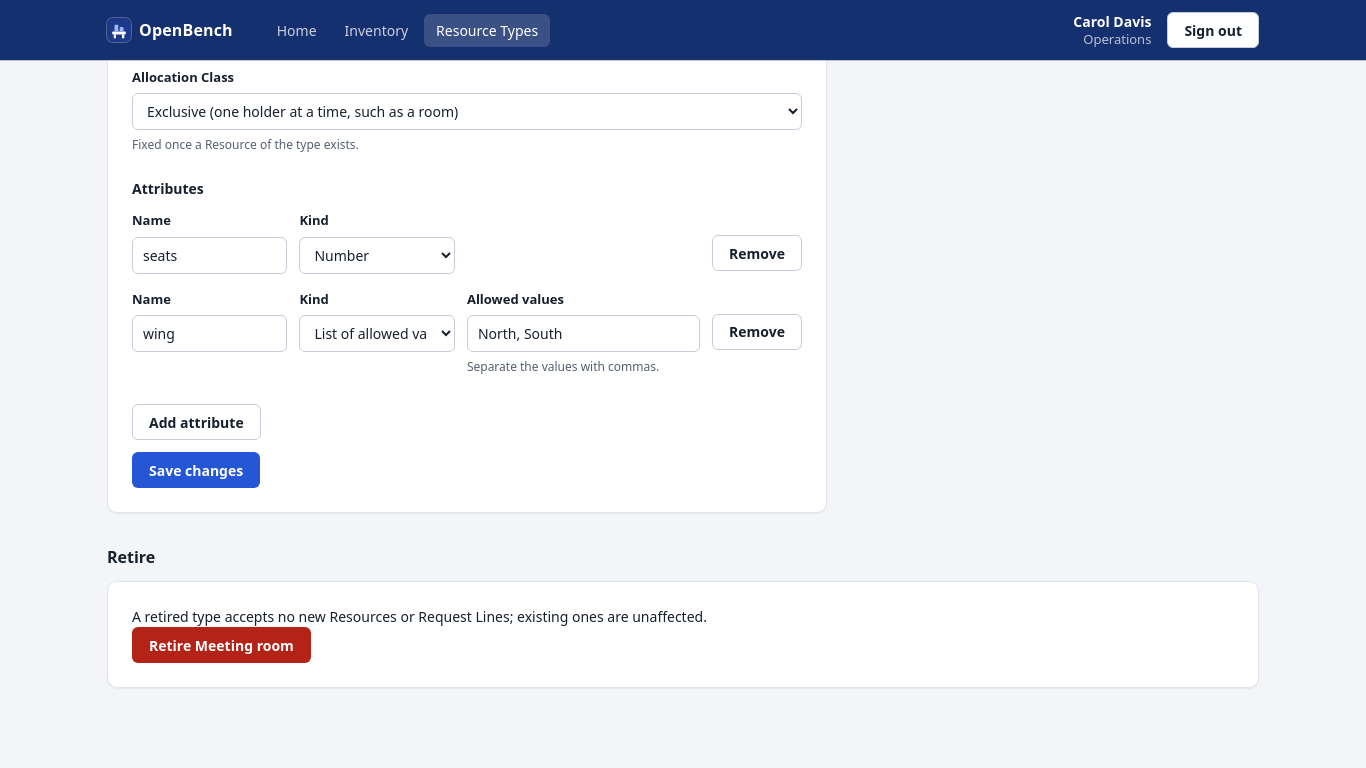
Scenario: Resource Types administration › shows why a retirement is refused
The image size is (1366, 768).
(page scrolled)
What coordinates should you click on to do the following:
click the button "Retire Meeting room"
I would click on:
 (221, 645)
Its box is [132,627,311,663].
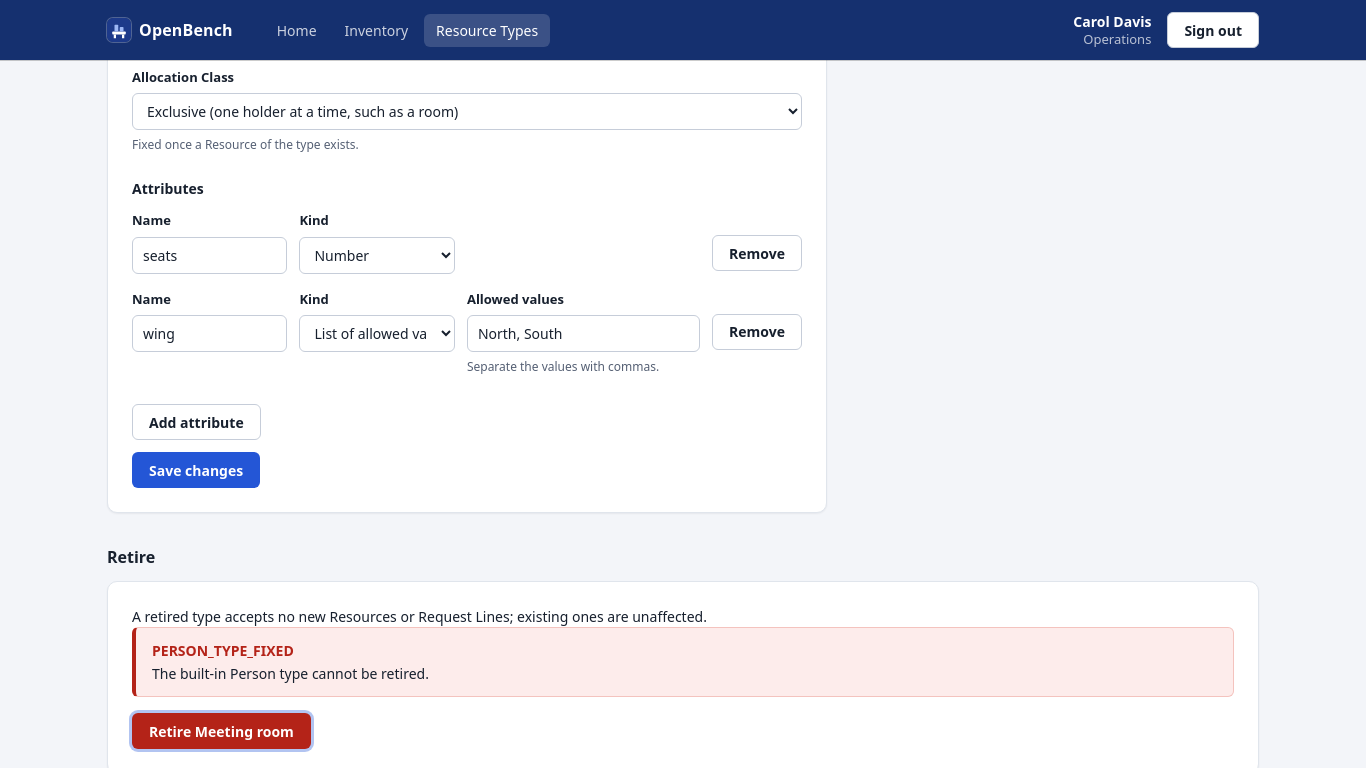
Result: the text "The built-in Person type cannot be retired." is shown at [152,664,429,683]
